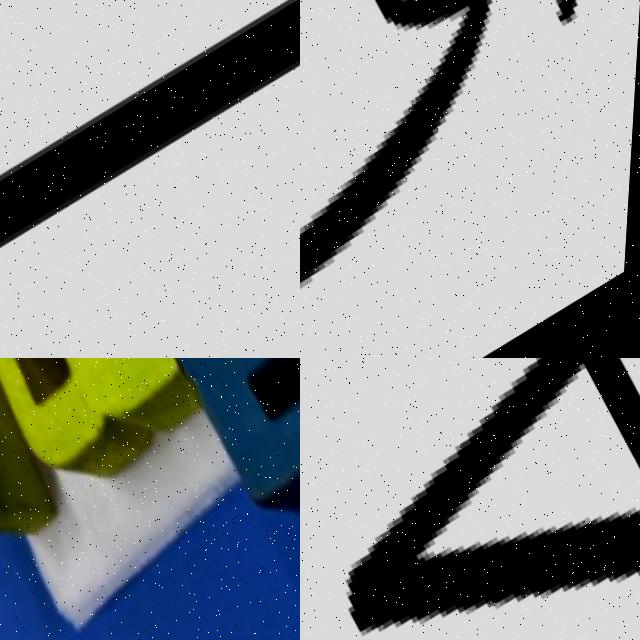A: (300, 358, 640, 640)
L: (0, 358, 84, 612)
M: (85, 358, 300, 546)
Q: (300, 0, 640, 358)
R: (0, 358, 256, 522)
